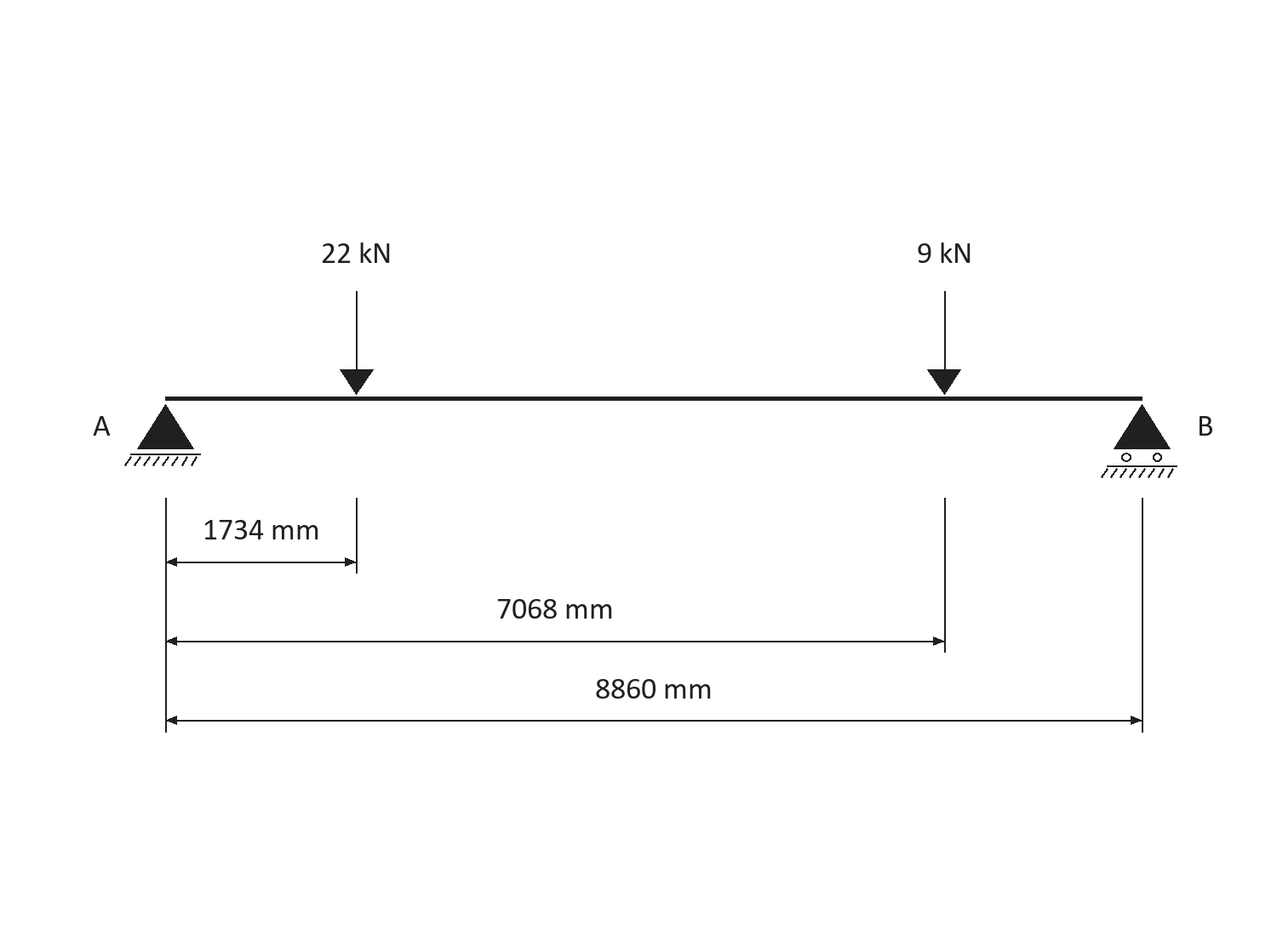pin_support: (124, 404, 201, 466)
point_load: (340, 291, 374, 395), (927, 291, 961, 395)
roller_support: (1101, 404, 1177, 478)
